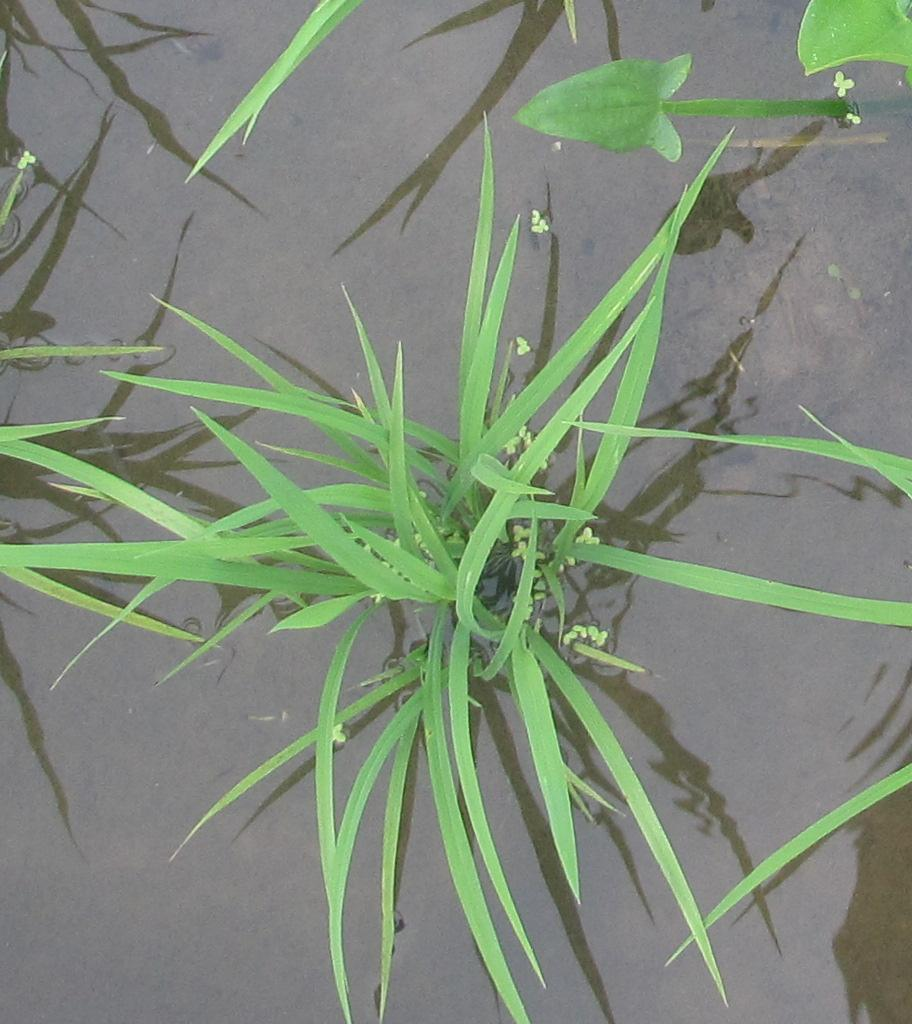Weed: (511, 53, 707, 175), (782, 2, 910, 78)
